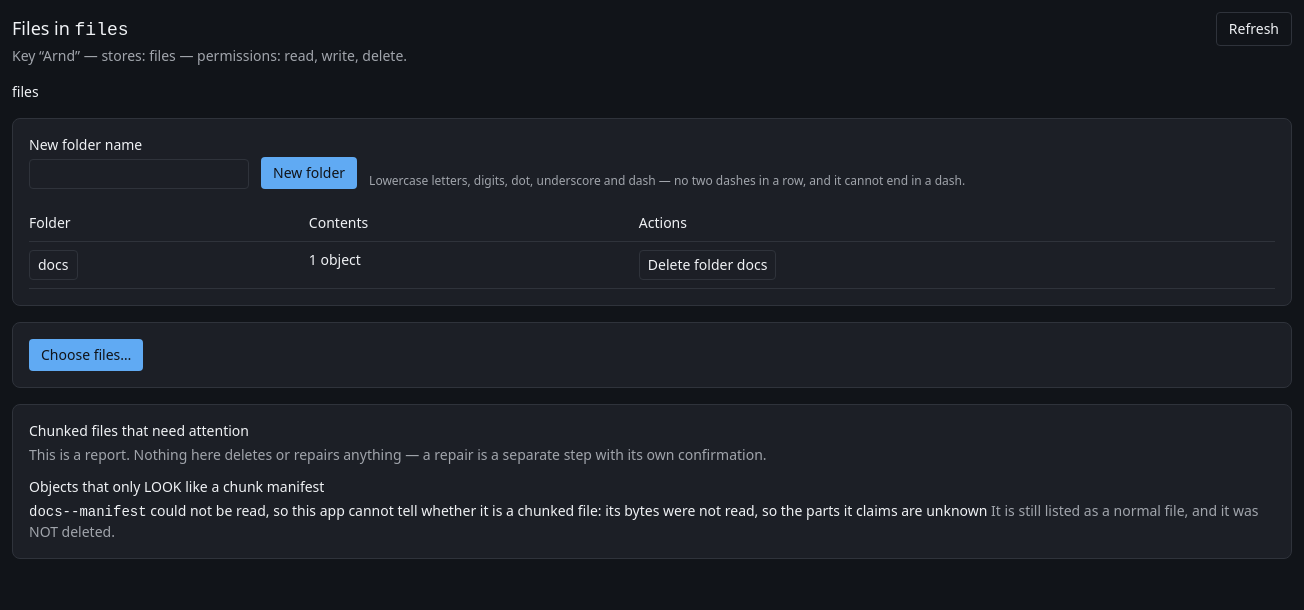
Test: an apparent manifest that cannot be read is REPORTED, never hidden and never deleted
Click the button "docs". click: click(53, 265)
box: [29,250,78,280]
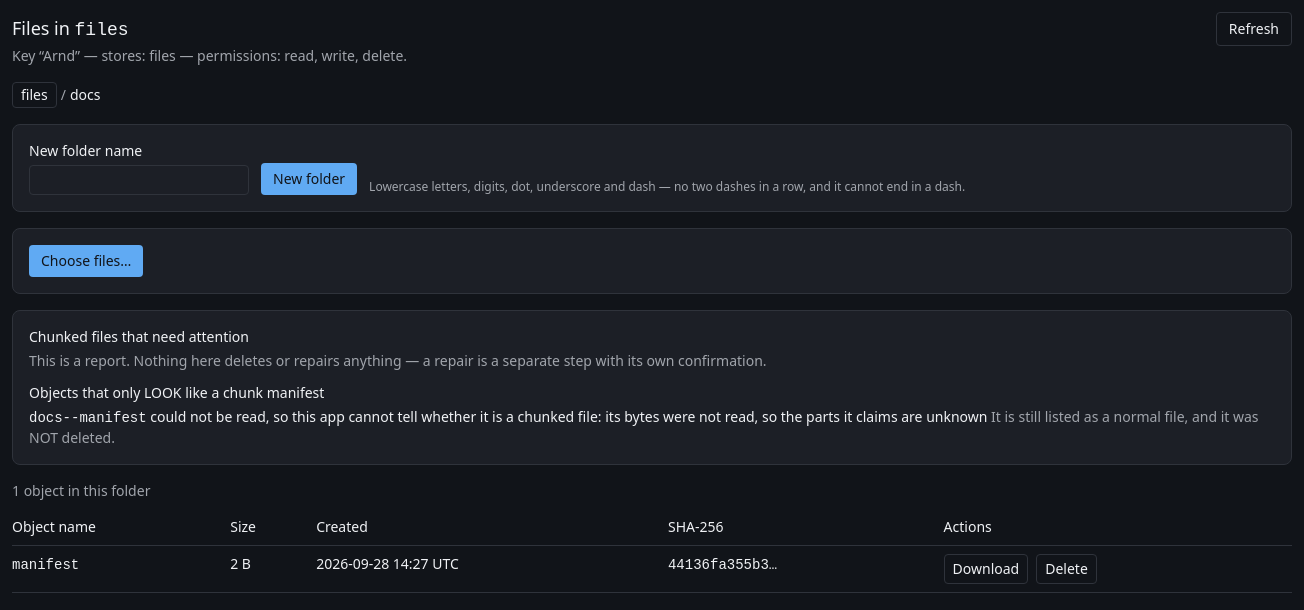
Expected: the list item "could not be read" is shown, [150,407,598,426]
Expected: the text "manifest" is shown, [12,557,79,573]
Expected: the button "Download" is shown, [944,554,1028,584]
